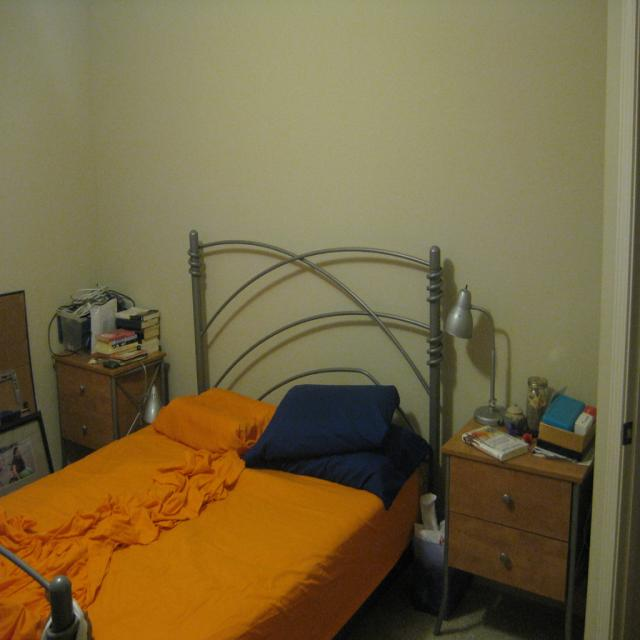desk: (25, 302, 176, 472)
